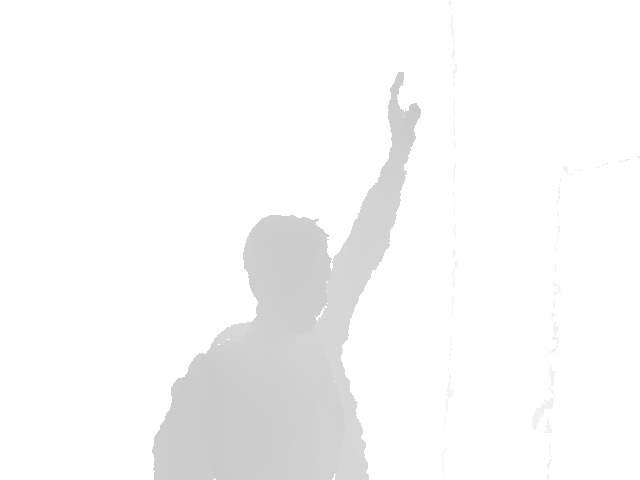hand: (386, 71, 423, 156)
head: (242, 214, 330, 316)
person: (150, 70, 423, 480)
